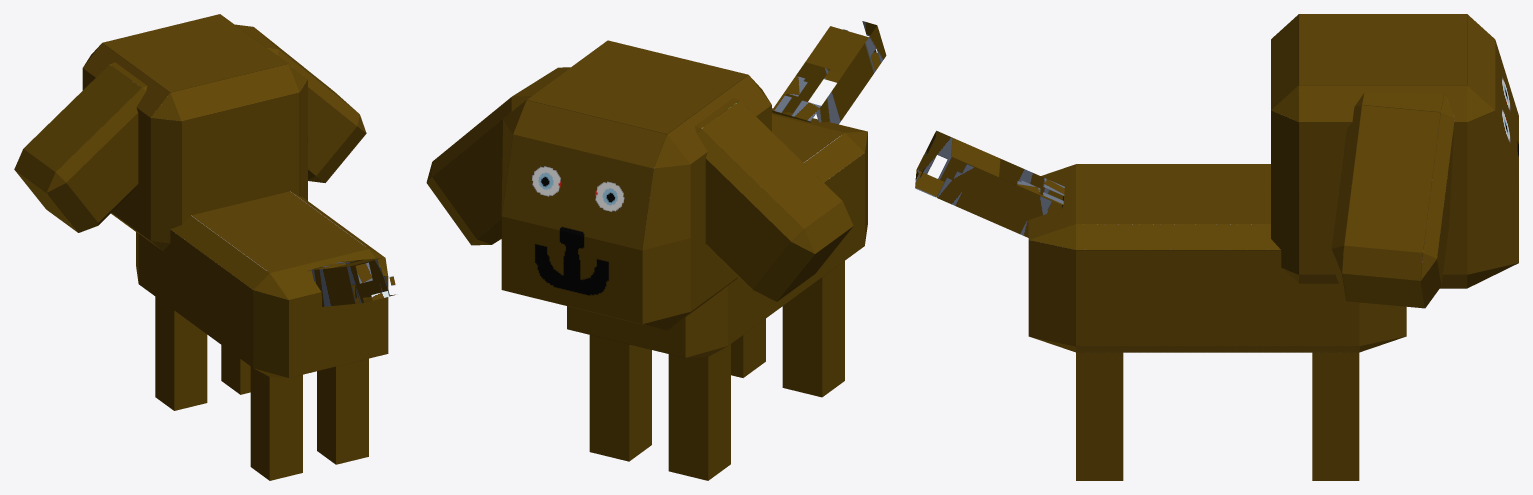
The model's file is anormaldoggy.fbx.
3 views of the same model, side by side, from view 1: azimuth 30°, elevation 25°; view 2: azimuth 150°, elevation 25°; view 3: azimuth 270°, elevation 25° (orthographic). The views are drawn at different scales.
Visible parts, largest first — view 1: beveled_cuboid_1, beveled_cuboid, beveled_cuboid_2, mesh_3, mesh_4, beveled_cuboid_3, mesh_2, mesh, mesh_1; view 2: beveled_cuboid_1, beveled_cuboid_2, beveled_cuboid, beveled_cuboid_3, mesh_2, mesh_1, mesh_3, mesh, mesh_4; view 3: beveled_cuboid, beveled_cuboid_1, beveled_cuboid_3, mesh, mesh_1, mesh_4.
Boxes of the visible parts, x1=… form: beveled_cuboid_1: x1=82, y1=14, x2=307, y2=250; beveled_cuboid: x1=136, y1=191, x2=388, y2=377; beveled_cuboid_2: x1=14, y1=62, x2=181, y2=232; mesh_3: x1=250, y1=366, x2=302, y2=480; mesh_4: x1=317, y1=358, x2=368, y2=464; beveled_cuboid_3: x1=235, y1=24, x2=366, y2=182; mesh_2: x1=155, y1=296, x2=207, y2=410; mesh: x1=307, y1=258, x2=395, y2=306; mesh_1: x1=221, y1=345, x2=250, y2=394; beveled_cuboid_1: x1=501, y1=40, x2=771, y2=330; beveled_cuboid_2: x1=667, y1=98, x2=853, y2=301; beveled_cuboid: x1=567, y1=108, x2=867, y2=357; beveled_cuboid_3: x1=426, y1=67, x2=570, y2=245; mesh_2: x1=668, y1=344, x2=730, y2=480; mesh_1: x1=589, y1=335, x2=651, y2=461; mesh_3: x1=782, y1=261, x2=844, y2=397; mesh: x1=772, y1=21, x2=886, y2=124; mesh_4: x1=731, y1=318, x2=765, y2=377; beveled_cuboid: x1=1028, y1=164, x2=1406, y2=352; beveled_cuboid_1: x1=1271, y1=14, x2=1518, y2=288; beveled_cuboid_3: x1=1331, y1=92, x2=1454, y2=308; mesh: x1=915, y1=130, x2=1064, y2=237; mesh_1: x1=1312, y1=352, x2=1359, y2=480; mesh_4: x1=1076, y1=352, x2=1123, y2=480.
Bounding box in the file's own units: 123 × 117 × 160.
Materials: 5 (5 with a texture image).
